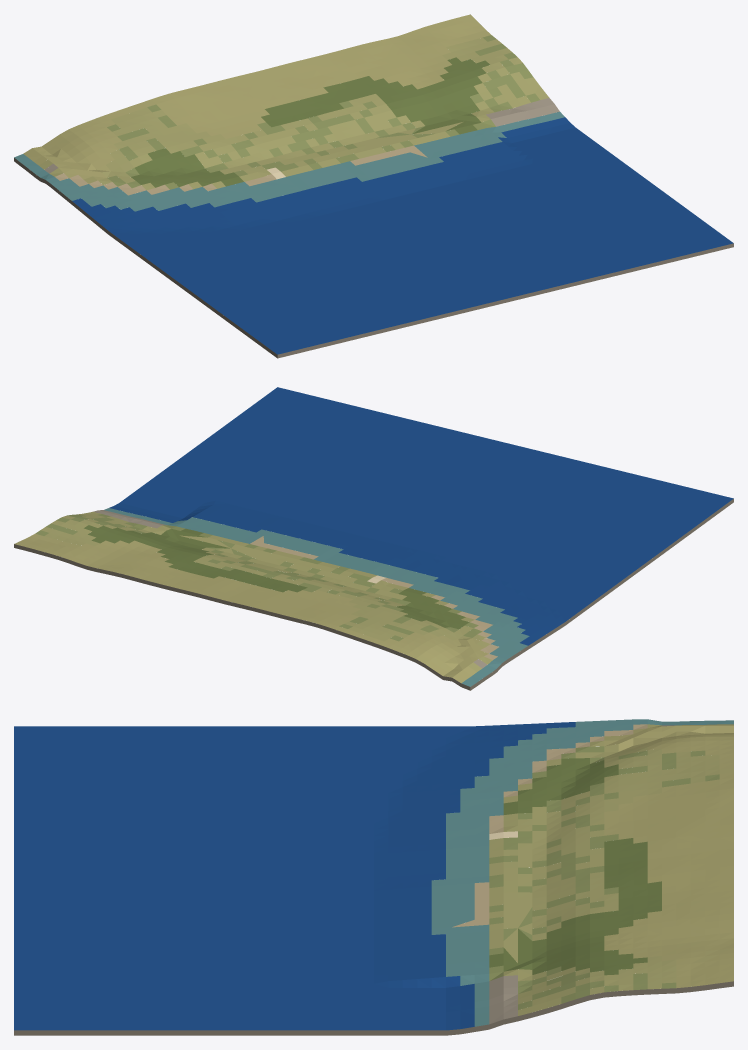
The model's file is parca_-1_-9-uzak.glb.
The picture shows the model from 3 angles, top to bottom: view 1: azimuth 30°, elevation 25°; view 2: azimuth 150°, elevation 25°; view 3: azimuth 270°, elevation 25°; orthographic projection. The views are drawn at different scales.
Parts seen in each view (by area): view 1: parca_-1_-9_arazi_uzak; view 2: parca_-1_-9_arazi_uzak; view 3: parca_-1_-9_arazi_uzak.
Part boxes in pixels (bbox=[...]): parca_-1_-9_arazi_uzak: bbox=[14, 14, 733, 358]; parca_-1_-9_arazi_uzak: bbox=[14, 387, 733, 690]; parca_-1_-9_arazi_uzak: bbox=[14, 719, 733, 1035].
Size of the model in its own units: 1000 by 83.32 by 1000.
